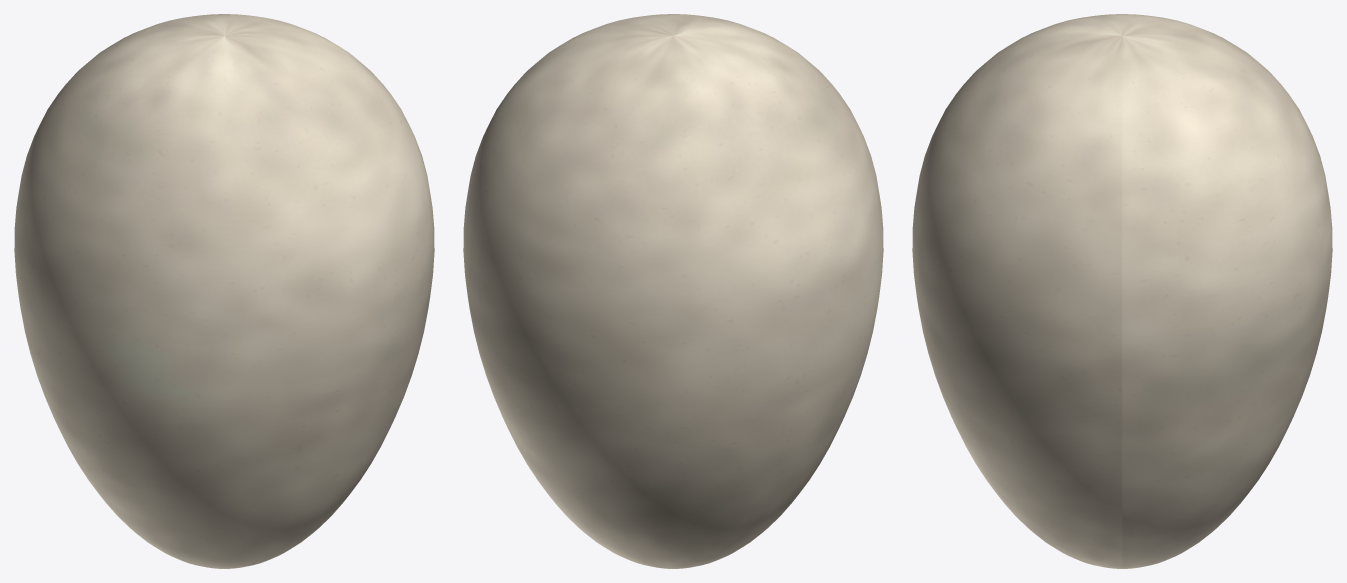
Rendered from huevo_blanco.glb.
3 renders of one model, left to right at view 1: azimuth 30°, elevation 25°; view 2: azimuth 150°, elevation 25°; view 3: azimuth 270°, elevation 25°, orthographic.
Parts seen in each view (by area): view 1: HuevoBlanco; view 2: HuevoBlanco; view 3: HuevoBlanco.
Boxes of the visible parts, x1,y1,x2,y2 form: HuevoBlanco: (14,14,434,568); HuevoBlanco: (463,14,883,568); HuevoBlanco: (912,14,1332,568).
Bounding box in the file's own units: 0.0415 × 0.057 × 0.0415.
Materials: 1 (1 with a texture image).
